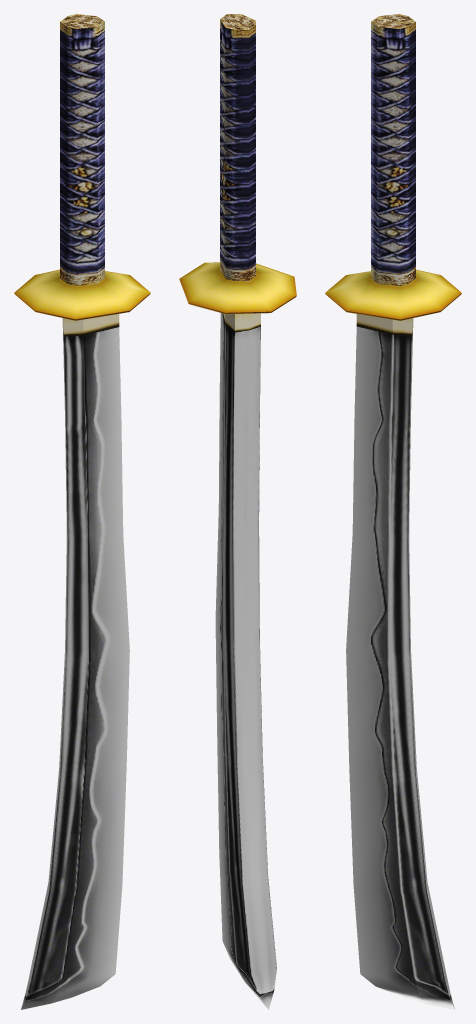
File: sword.fbx
The picture shows the model from 3 angles, left to right: view 1: azimuth 90°, elevation 25°; view 2: azimuth 210°, elevation 25°; view 3: azimuth 270°, elevation 25°; orthographic projection. The views are drawn at different scales.
Visible parts, largest first — view 1: pCube1; view 2: pCube1; view 3: pCube1.
Part boxes in pixels (<box>): pCube1: <box>14,14,150,1009</box>; pCube1: <box>179,14,296,1009</box>; pCube1: <box>325,14,461,1009</box>.
Bounding box in the file's own units: 2.13 × 18.46 × 2.32.
1 material, 1 textured.
